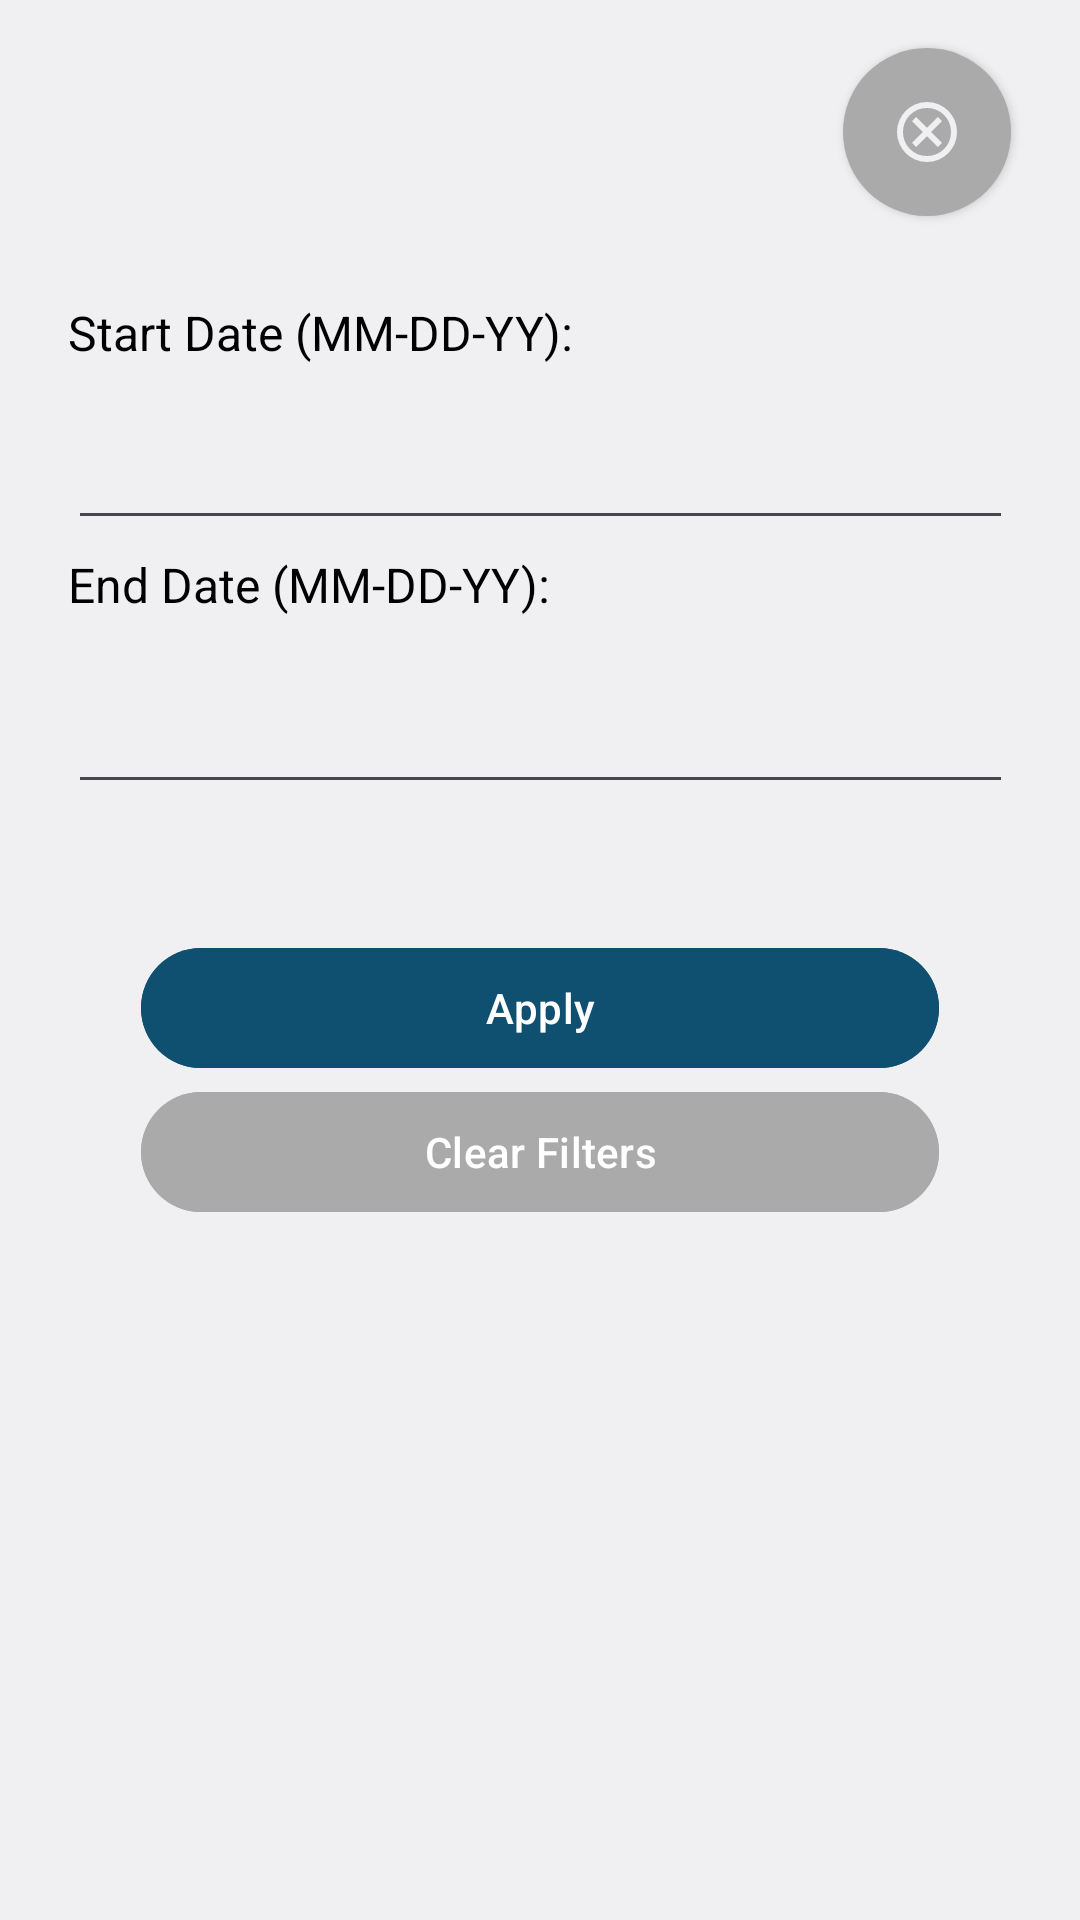

Screen size 1080x1920. Icon name, then its center in pixels as point (x, y):
Close Filter: point (927, 132)
